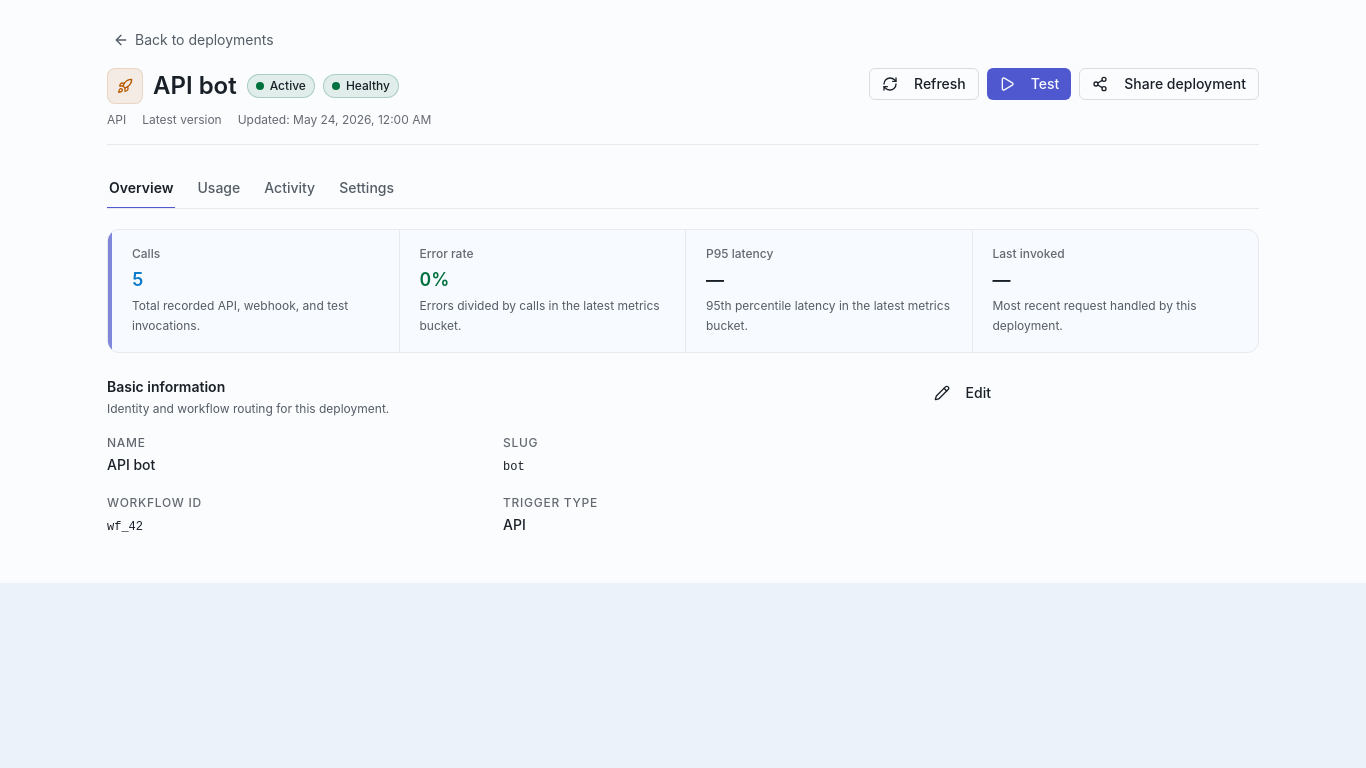
Test case: <DeploymentDetailPage> › loads only the recent top 50 activity records with an explicit order
Check: the heading "API bot" is shown, box [153,70,237,102]
Click the tab "Activity".
click(290, 189)  # box [262,169,317,209]
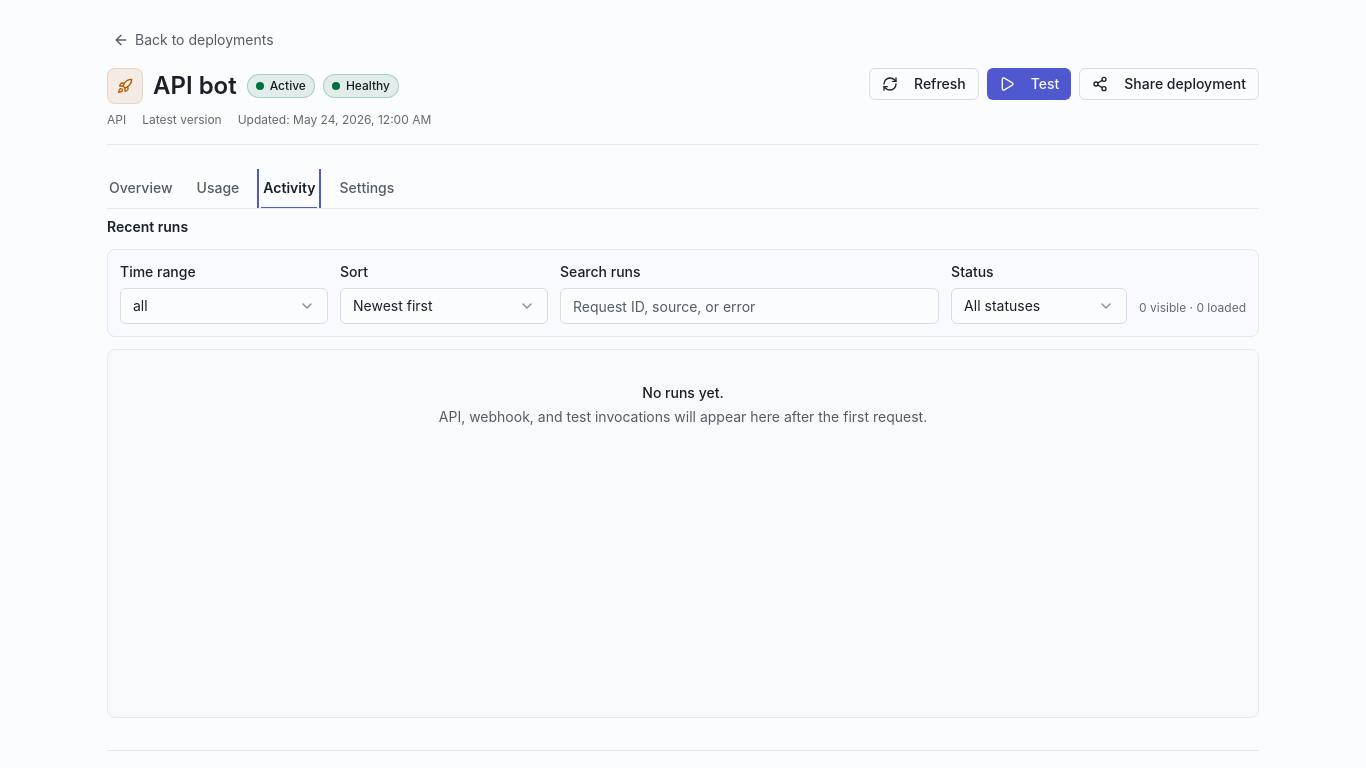
Check: the dropdown named "Time range" is shown, box [120,288,328,324]
Check: the dropdown named "Sort" is shown, box [340,288,548,324]
